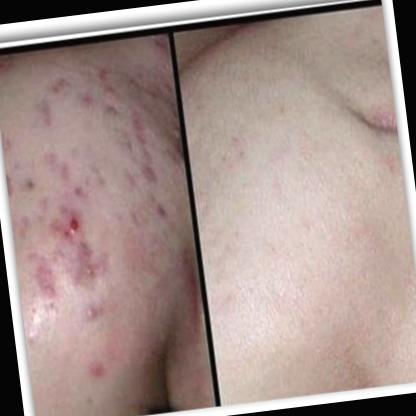Acne: (54, 206, 86, 245)
